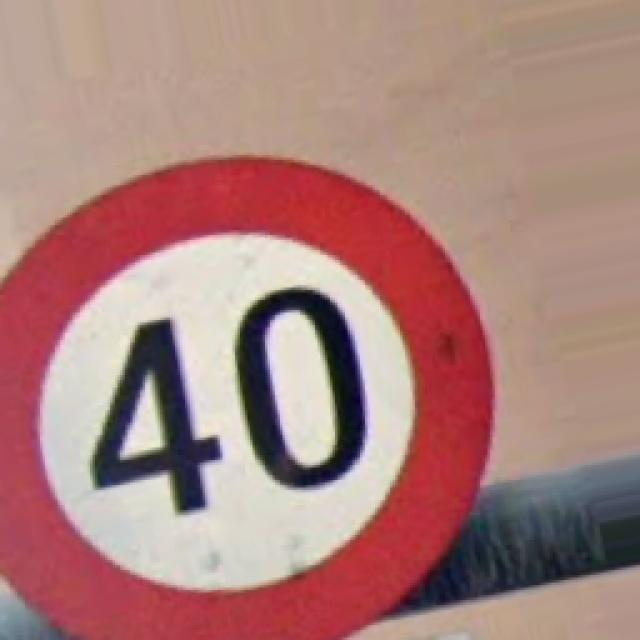Speed Limit -40-: (0, 158, 490, 638)
